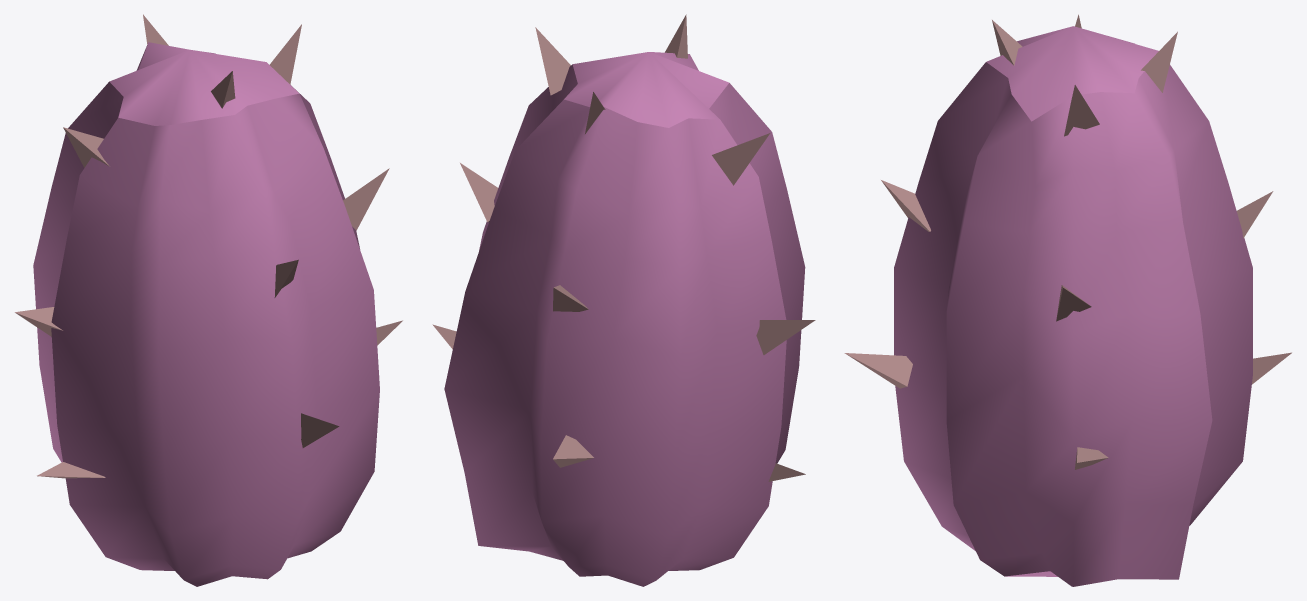
File: CactusFruit.fbx
3 renders of one model, left to right at view 1: azimuth 30°, elevation 25°; view 2: azimuth 150°, elevation 25°; view 3: azimuth 270°, elevation 25°, orthographic.
Parts seen in each view (by area): view 1: polySurface477, polySurface1742; view 2: polySurface477, polySurface1742; view 3: polySurface477, polySurface1742.
Part boxes in pixels (x1=…): polySurface477: x1=33, y1=42, x2=379, y2=586; polySurface1742: x1=15, y1=14, x2=402, y2=478; polySurface477: x1=444, y1=52, x2=805, y2=586; polySurface1742: x1=432, y1=14, x2=815, y2=481; polySurface477: x1=894, y1=26, x2=1252, y2=586; polySurface1742: x1=844, y1=14, x2=1291, y2=469.
Size of the model in its own units: 0.6248 by 0.8241 by 0.6171.
